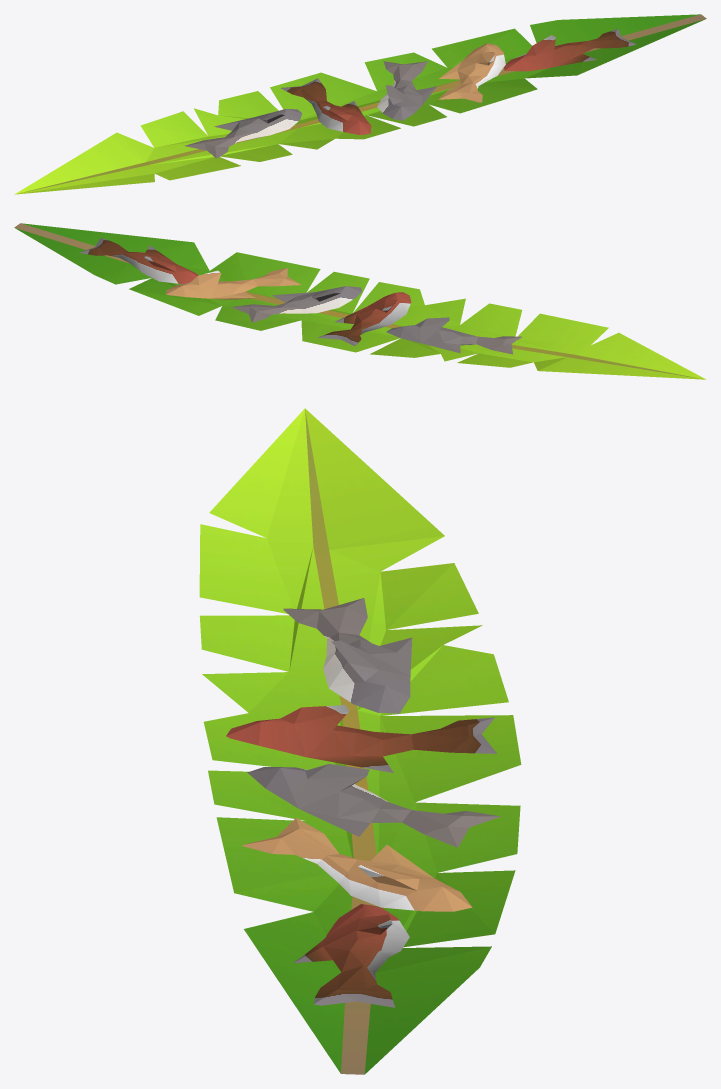
The picture shows the model from 3 angles, top to bottom: view 1: azimuth 30°, elevation 25°; view 2: azimuth 150°, elevation 25°; view 3: azimuth 270°, elevation 25°; orthographic projection. The views are drawn at different scales.
Visible parts, largest first — view 1: DriedFishLeaf; view 2: DriedFishLeaf; view 3: DriedFishLeaf.
Boxes of the visible parts, box(x1,y1,x2,y2) form: DriedFishLeaf: box(14, 14, 706, 194); DriedFishLeaf: box(14, 223, 705, 379); DriedFishLeaf: box(199, 408, 521, 1074).
Bounding box in the file's own units: 200 × 6.11 × 41.09.
1 material, 1 textured.
